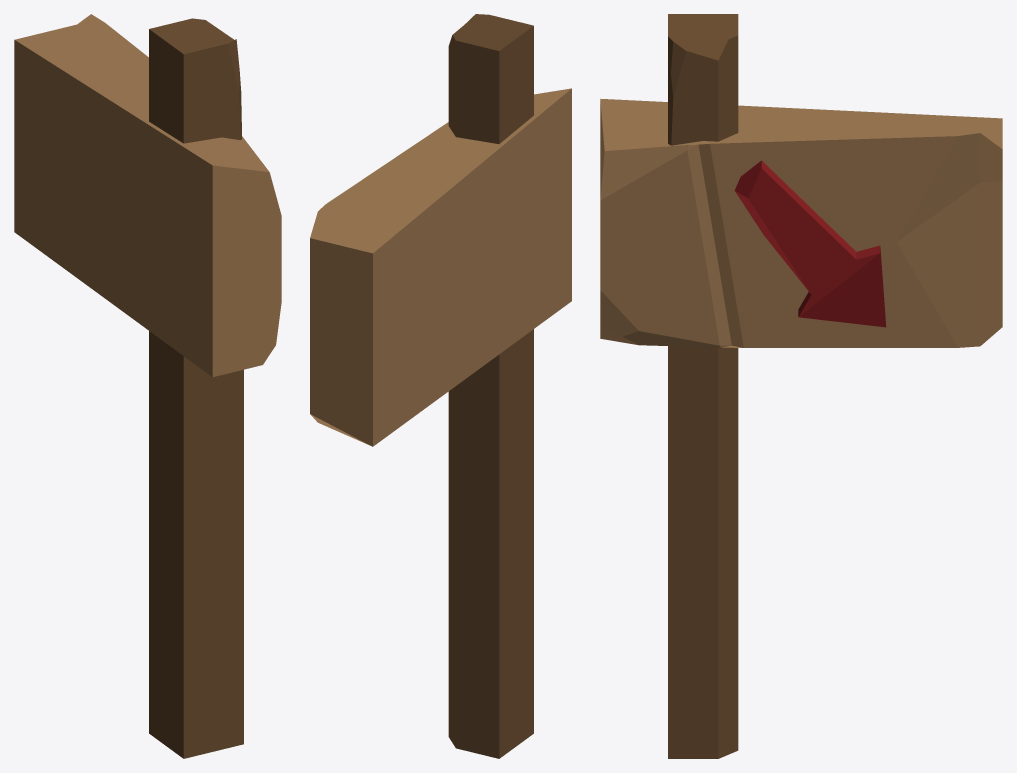
The model's file is Sign.fbx.
3 renders of one model, left to right at view 1: azimuth 30°, elevation 25°; view 2: azimuth 150°, elevation 25°; view 3: azimuth 270°, elevation 25°, orthographic.
Parts seen in each view (by area): view 1: Cube.001, Cube; view 2: Cube.001, Cube; view 3: Cube.001, Cube, Cube.002.
Part boxes in pixels (<box>): Cube.001: <box>14,14,281,377</box>; Cube: <box>149,18,243,758</box>; Cube.001: <box>310,88,571,446</box>; Cube: <box>448,14,533,758</box>; Cube.001: <box>600,98,1002,347</box>; Cube: <box>668,14,738,758</box>; Cube.002: <box>734,160,886,327</box>.
Size of the model in its own units: 37.92 by 301 by 153.
